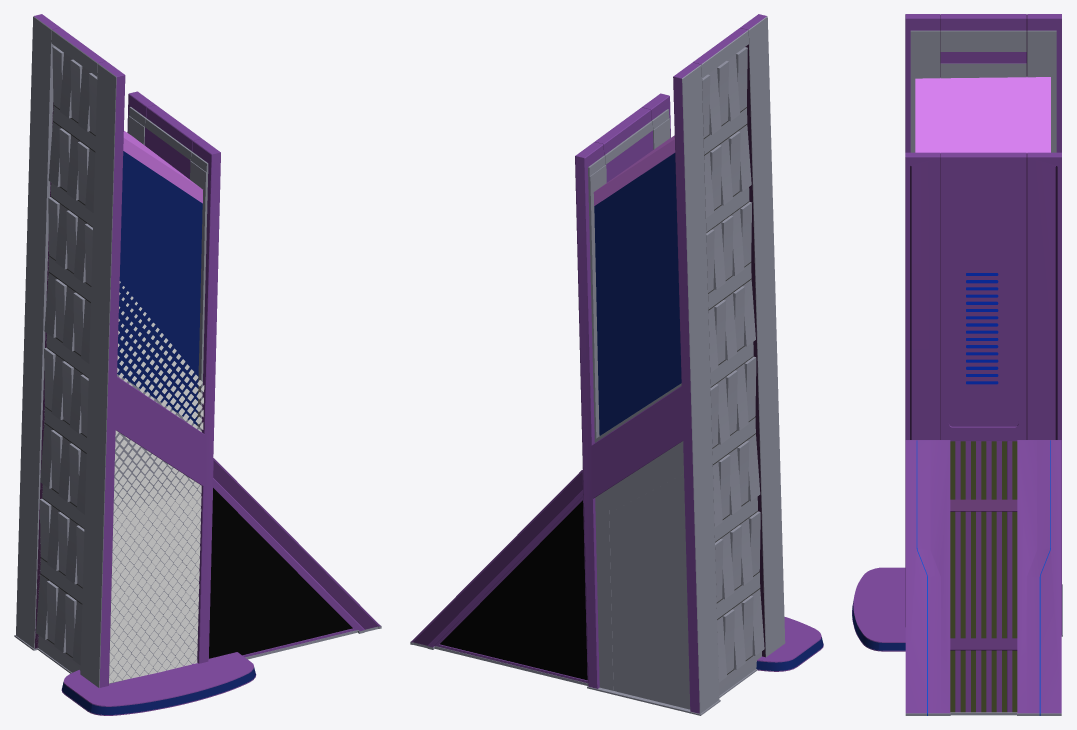
The model's file is Building_004_2st_L0.fbx.
3 views of the same model, side by side, from view 1: azimuth 30°, elevation 25°; view 2: azimuth 150°, elevation 25°; view 3: azimuth 270°, elevation 25° (orthographic). The views are drawn at different scales.
Parts seen in each view (by area): view 1: Building_004_2st_L0; view 2: Building_004_2st_L0; view 3: Building_004_2st_L0.
Part boxes in pixels (bbox=[...]): Building_004_2st_L0: bbox=[14, 14, 381, 715]; Building_004_2st_L0: bbox=[410, 14, 823, 715]; Building_004_2st_L0: bbox=[852, 14, 1062, 715].
Size of the model in its own units: 48.57 by 30.81 by 93.56.
